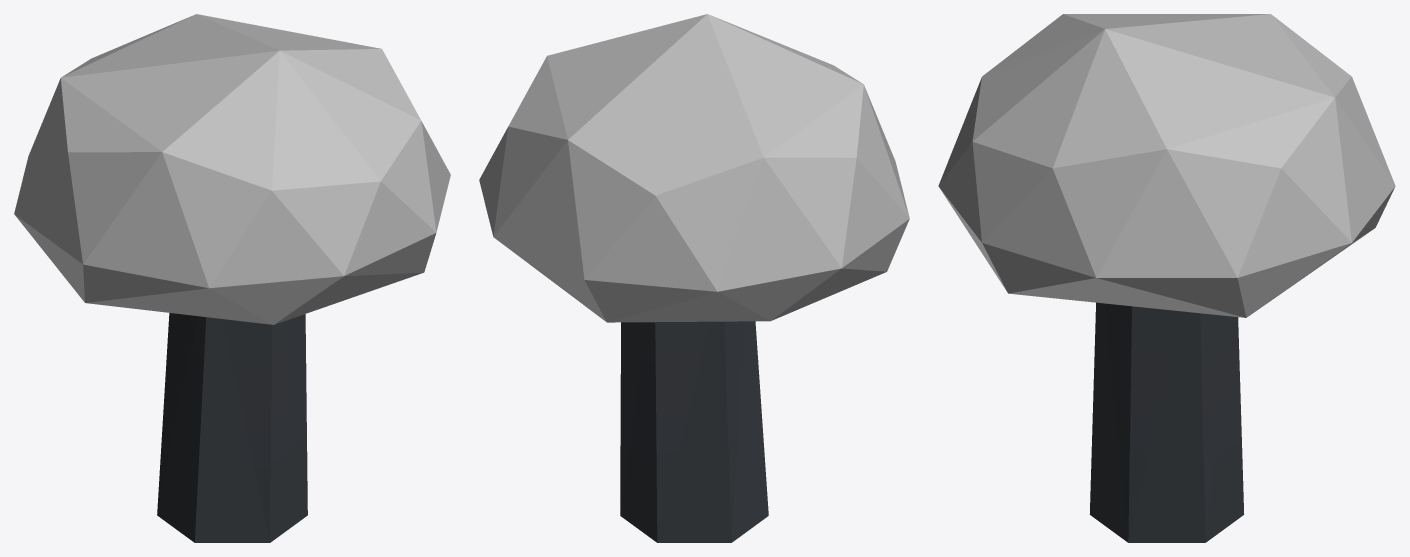
The model's file is Mushroom_05.fbx.
3 views of the same model, side by side, from view 1: azimuth 30°, elevation 25°; view 2: azimuth 150°, elevation 25°; view 3: azimuth 270°, elevation 25° (orthographic). The views are drawn at different scales.
Parts seen in each view (by area): view 1: Mushroom_05; view 2: Mushroom_05; view 3: Mushroom_05.
Part boxes in pixels (x1,y1,x2,y2): Mushroom_05: [14, 14, 450, 542]; Mushroom_05: [479, 14, 909, 542]; Mushroom_05: [938, 14, 1395, 542].
Bounding box in the file's own units: 0.1568 × 0.1967 × 0.1649.
